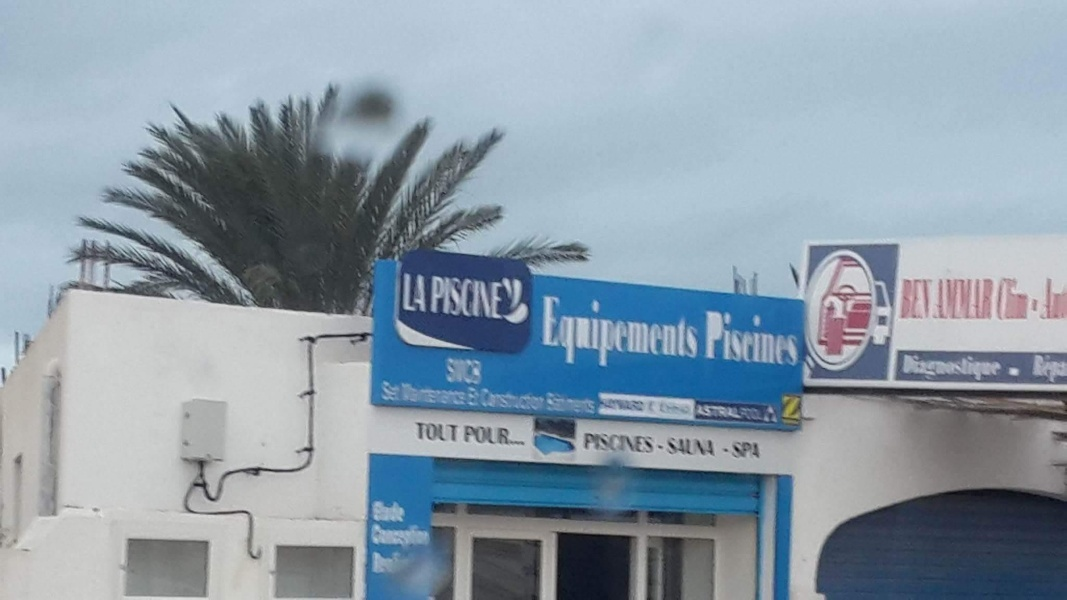text: (545, 295, 560, 375), (561, 295, 576, 375), (577, 295, 592, 375), (593, 295, 608, 375), (609, 295, 624, 375), (625, 295, 640, 375), (641, 295, 656, 375), (657, 295, 672, 375), (673, 295, 688, 375), (689, 295, 700, 375), (721, 310, 736, 368), (737, 310, 752, 368), (753, 310, 768, 368), (769, 310, 784, 368), (785, 310, 800, 368), (1009, 274, 1024, 326), (1025, 274, 1040, 326), (1041, 274, 1056, 326), (707, 310, 720, 368), (433, 275, 448, 319), (449, 275, 464, 319), (465, 275, 480, 319), (481, 275, 496, 319), (945, 279, 960, 320), (961, 279, 976, 320), (977, 279, 992, 320), (913, 279, 928, 320), (997, 274, 1008, 326), (1041, 351, 1056, 386), (404, 272, 416, 315), (417, 272, 428, 315), (1057, 274, 1066, 326), (449, 354, 464, 385), (465, 354, 480, 385), (369, 523, 384, 553), (385, 523, 400, 553), (401, 523, 416, 553), (417, 523, 431, 553), (385, 551, 400, 579), (401, 551, 416, 579), (913, 354, 928, 381), (929, 354, 944, 381), (945, 354, 960, 381), (961, 354, 976, 381), (977, 354, 992, 381), (385, 501, 400, 526), (385, 380, 401, 403), (465, 424, 480, 448), (481, 424, 496, 448), (497, 424, 512, 448), (561, 391, 576, 415), (577, 391, 592, 415), (497, 275, 505, 319), (370, 501, 384, 526), (401, 383, 416, 406), (417, 383, 432, 406), (433, 383, 448, 406), (449, 383, 464, 406), (417, 421, 432, 443), (433, 421, 448, 443), (593, 432, 608, 454), (609, 432, 624, 454), (625, 432, 640, 454), (657, 436, 672, 458), (673, 436, 688, 458), (689, 436, 704, 458), (481, 388, 496, 410), (497, 388, 512, 410), (513, 388, 528, 410), (529, 388, 544, 410), (904, 279, 912, 320), (993, 354, 1005, 381), (513, 424, 526, 448), (547, 391, 560, 415), (373, 551, 384, 579), (929, 279, 936, 320), (641, 432, 654, 454), (467, 386, 480, 408), (1057, 351, 1065, 386), (737, 442, 752, 460), (1009, 362, 1024, 379), (705, 403, 720, 420), (721, 403, 736, 420), (609, 395, 624, 412), (625, 395, 640, 412), (938, 279, 944, 320), (1033, 351, 1040, 386), (705, 436, 716, 458), (449, 421, 459, 443), (724, 442, 736, 460), (904, 354, 912, 381), (583, 432, 592, 454), (753, 442, 762, 460), (401, 501, 407, 526), (696, 403, 704, 420), (593, 391, 598, 415), (601, 395, 608, 412), (481, 354, 484, 385), (737, 403, 742, 420), (641, 395, 646, 412), (417, 551, 420, 579), (993, 279, 995, 320), (543, 295, 544, 375), (545, 388, 548, 410), (446, 354, 448, 385), (382, 380, 384, 403), (465, 383, 467, 406), (415, 421, 416, 443), (479, 388, 480, 410)
